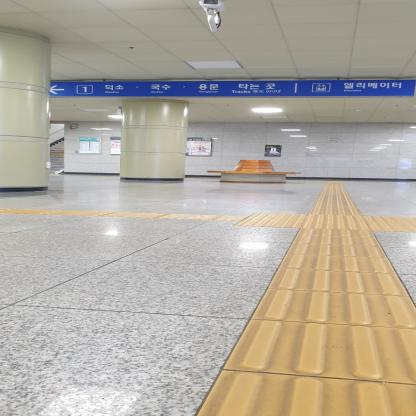go: (222, 318, 416, 385), (251, 288, 416, 329), (268, 268, 411, 296), (278, 253, 397, 274), (287, 243, 388, 258)
